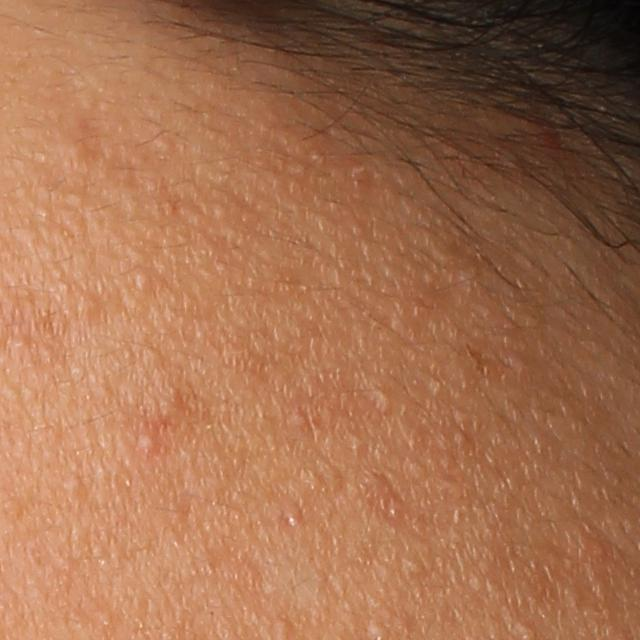comedo: (158, 380, 187, 418), (57, 475, 87, 499), (374, 383, 397, 411), (65, 136, 91, 159), (73, 292, 101, 313), (283, 502, 304, 526), (131, 269, 154, 289), (153, 135, 174, 149)
